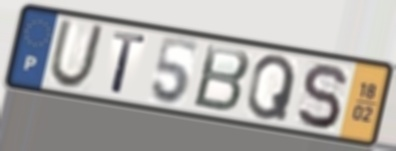5: (151, 32, 203, 108)
B: (190, 41, 253, 115)
Q: (245, 53, 299, 124)
S: (294, 61, 349, 131)
T: (109, 28, 148, 97)
U: (46, 18, 107, 91)
